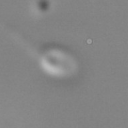normal: (1, 15, 38, 55)
